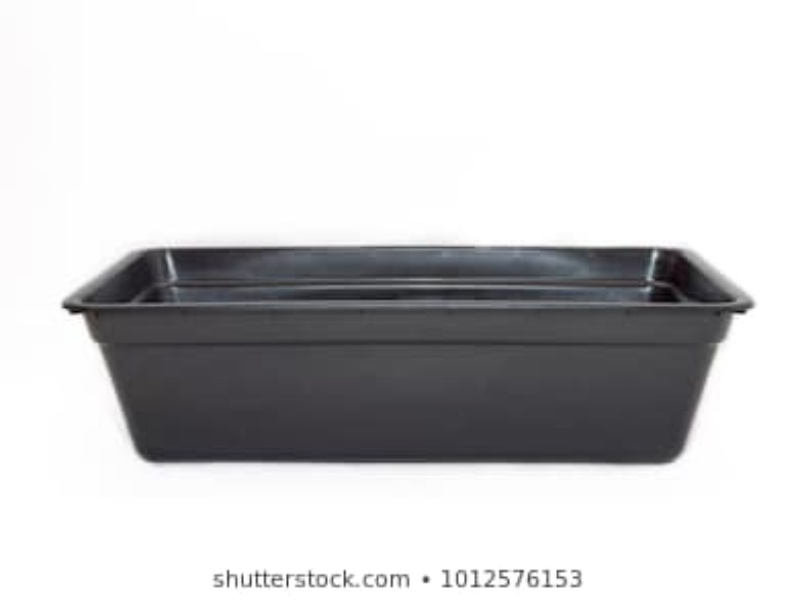plastic-container: (59, 241, 762, 469)
